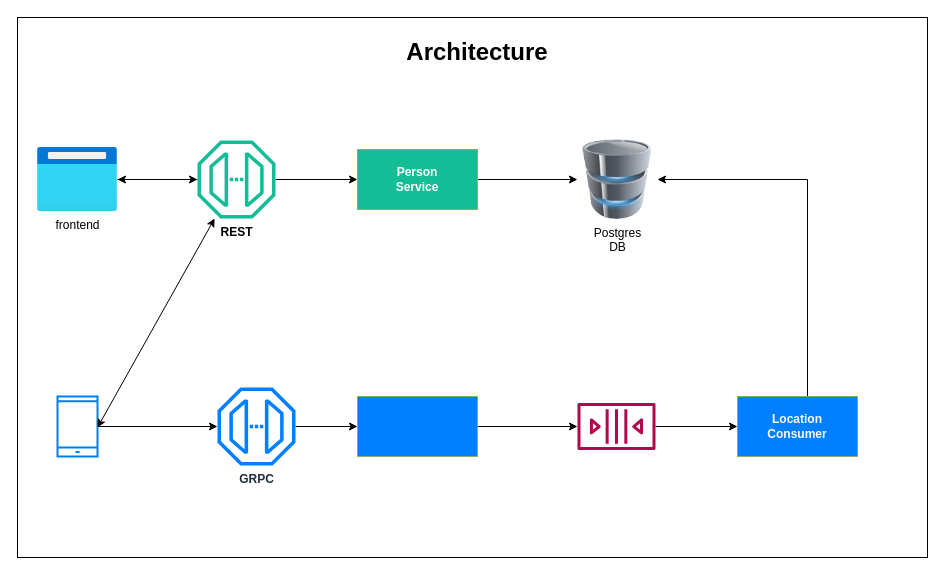
The diagram is 945 pixels wide and 575 high, and some of its shapes have lost their labels. Here are the shapes that lost their labels. From the top down, the centre of each, then its label:
(77,426): mobile client
(417,426): Location Service
(616,426): KAFKA
